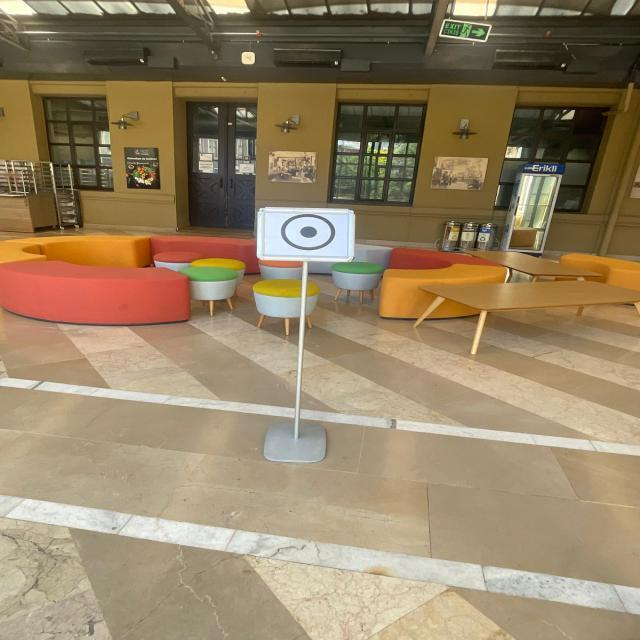Target: (228, 193, 388, 272)
inner: (292, 221, 323, 247)
